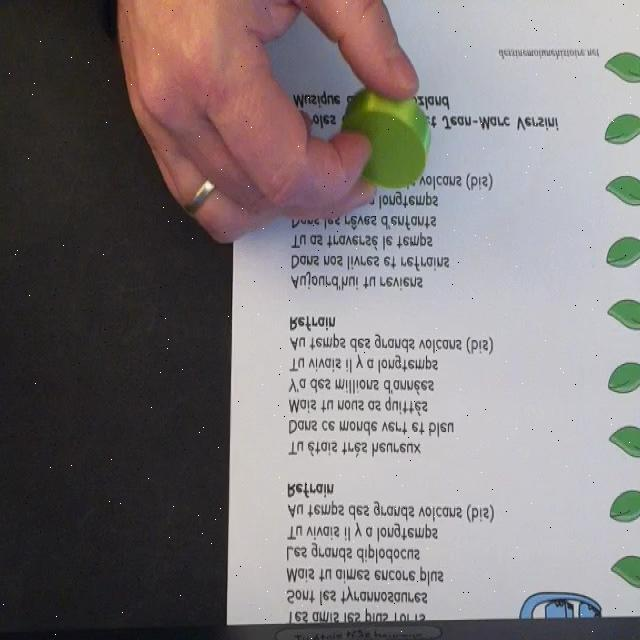round: (340, 90, 432, 189)
